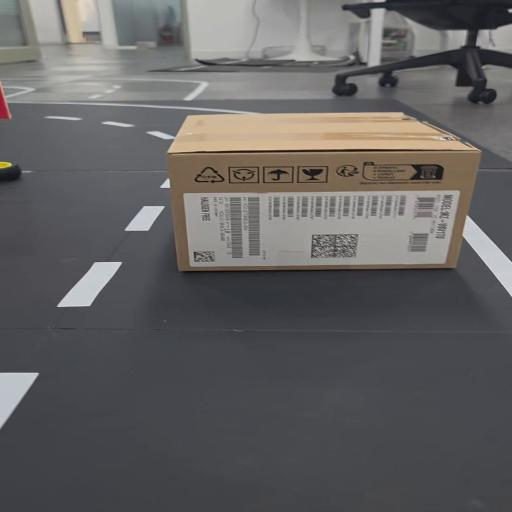Box: (155, 98, 482, 282)
